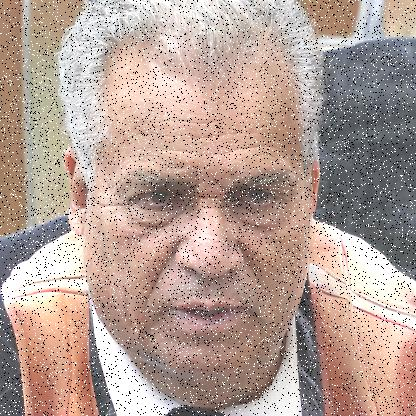eyeee: (228, 187, 288, 212), (123, 188, 189, 210)
mouthhz: (166, 300, 252, 332)
nosebb: (173, 197, 246, 281)
